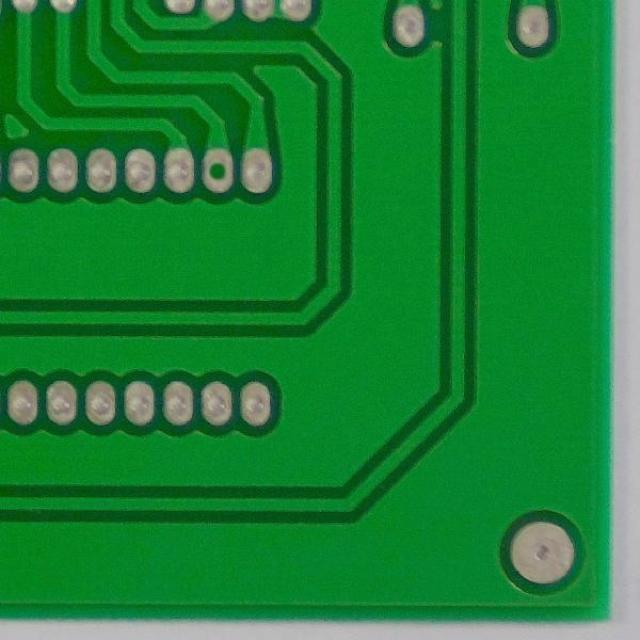Missing_Hole: (195, 147, 240, 196)
